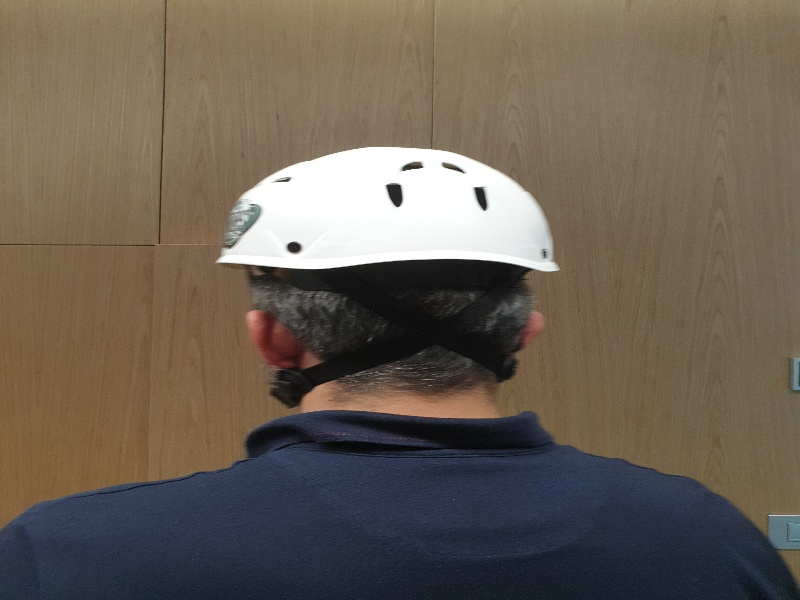Baret: (214, 148, 559, 275)
